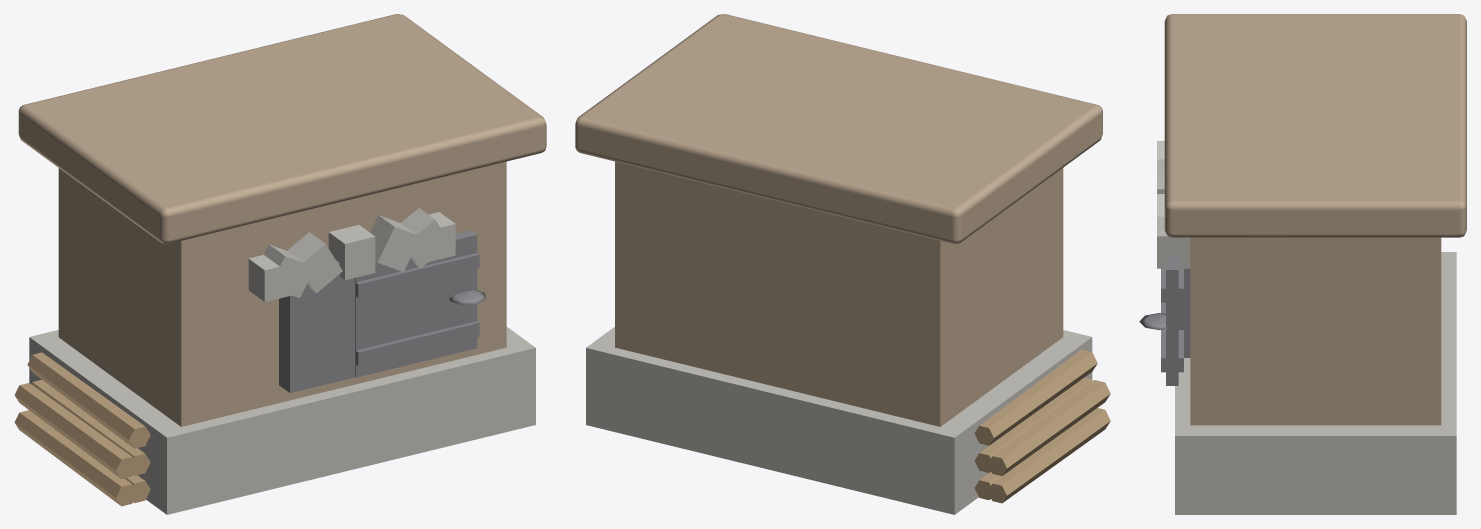
Rendered from korean-hanok-village-and-street-ondol-firebox-3a9ac24d__38054.glb.
The picture shows the model from 3 angles, left to right: view 1: azimuth 30°, elevation 25°; view 2: azimuth 150°, elevation 25°; view 3: azimuth 270°, elevation 25°; orthographic projection. The views are drawn at different scales.
Visible parts, largest first — view 1: ondol-firebox, firebox-door; view 2: ondol-firebox; view 3: ondol-firebox, firebox-door.
Part boxes in pixels (box(x1,y1,x2,y2)): ondol-firebox: box(14, 14, 546, 514); firebox-door: box(355, 230, 486, 377); ondol-firebox: box(575, 14, 1110, 514); ondol-firebox: box(1157, 14, 1466, 514); firebox-door: box(1139, 257, 1183, 385).
Bounding box in the file's own units: 1.9 × 1.36 × 1.28.
